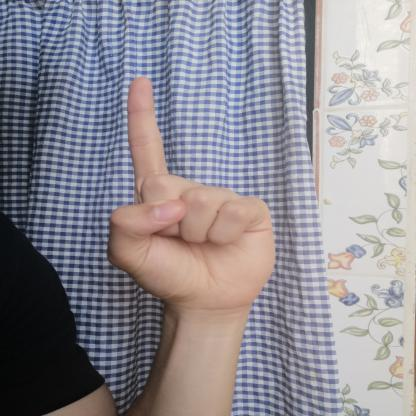BAA: (95, 67, 288, 319)
